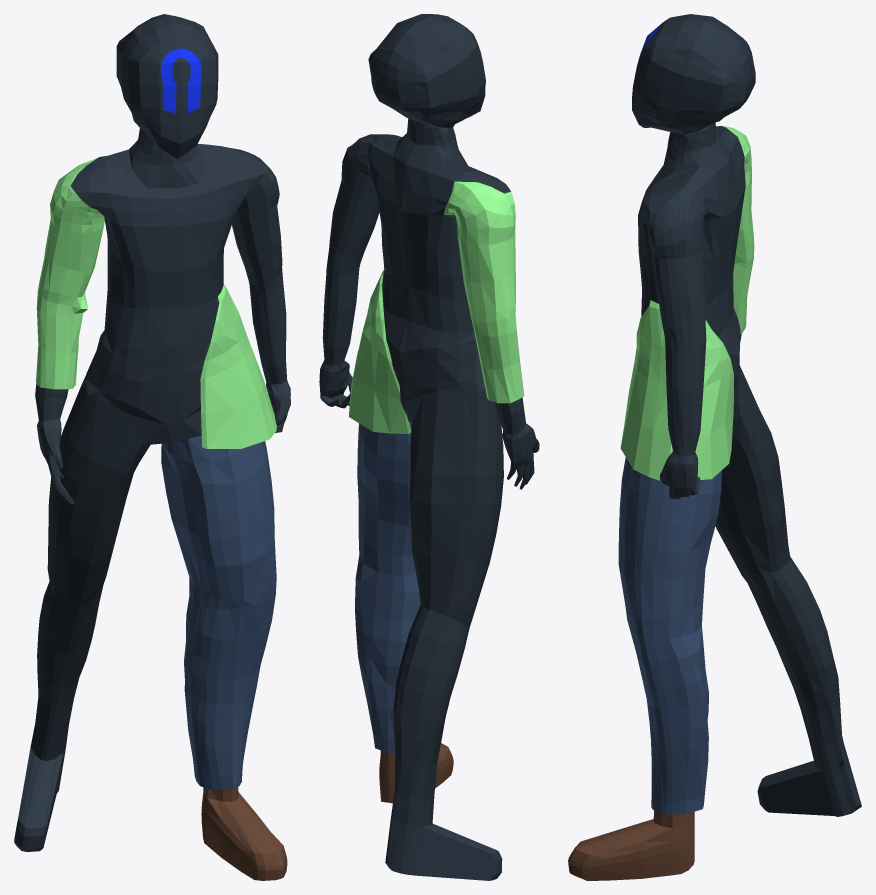
File: Mar_Recover_000006.obj
3 renders of one model, left to right at view 1: azimuth 30°, elevation 25°; view 2: azimuth 150°, elevation 25°; view 3: azimuth 270°, elevation 25°, orthographic. The views are drawn at different scales.
Parts seen in each view (by area): view 1: Cube.000_Cube.001; view 2: Cube.000_Cube.001; view 3: Cube.000_Cube.001.
Part boxes in pixels (x1,y1,x2,y2): Cube.000_Cube.001: (14, 14, 290, 880); Cube.000_Cube.001: (319, 14, 539, 880); Cube.000_Cube.001: (568, 14, 861, 880).
Size of the model in its own units: 1.15 by 3.97 by 1.26.
